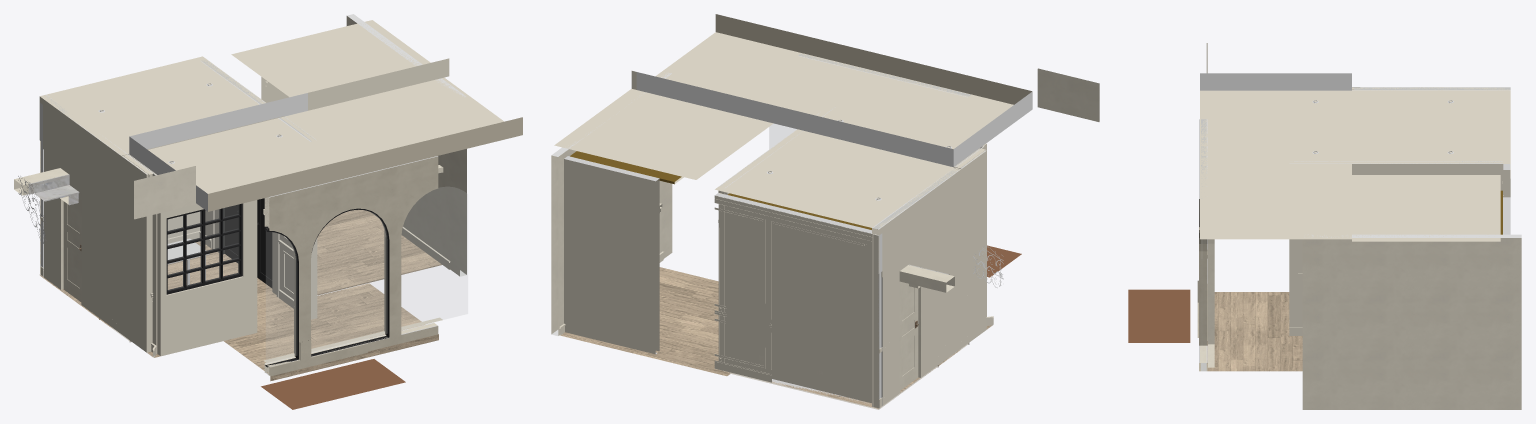
The model's file is office-west-3f3d2f189603.glb.
3 renders of one model, left to right at view 1: azimuth 30°, elevation 25°; view 2: azimuth 150°, elevation 25°; view 3: azimuth 270°, elevation 25°, orthographic. The views are drawn at different scales.
Parts seen in each view (by area): view 1: office-west-look-dbd60ee5c3733ed6, office-west-6a051330000fbca1, office-west-look-c9e78b9ec1bb39cd, office-west-look-2575515a05775d9e, office-west-2575515a05775d9e, office-west-look-c02a36d0521470a9, office-west-a822d30aa9e2c55a, office-west-look-5cbcc744e6f960f3, office-west-look-c374268555806af8, office-west-look-3b0077416469e01b, office-west-look-6a1144f4e43410bb, office-west-dbd60ee5c3733ed6 (+20 smaller); view 2: office-west-look-dbd60ee5c3733ed6, office-west-19647d6da46c2b80, office-west-6a051330000fbca1, office-west-look-19647d6da46c2b80, office-west-2575515a05775d9e, office-west-look-2575515a05775d9e, office-west-look-3b0077416469e01b, office-west-look-6a1144f4e43410bb, office-west-look-34525a54e63b733b, office-west-dbd60ee5c3733ed6, office-west-80d276f58a4dc5cb, office-west-7b51444cc162b982 (+11 smaller); view 3: office-west-look-6a1144f4e43410bb, office-west-look-dbd60ee5c3733ed6, office-west-2575515a05775d9e, office-west-look-2575515a05775d9e, office-west-look-c374268555806af8, office-west-dbd60ee5c3733ed6, office-west-look-aee2d046b0172b1e, office-west-72f8f5982ac3dc36, office-west-look-c9e78b9ec1bb39cd, office-west-0811b6b476584948, office-west-look-e54cb06e326b7f4f, office-west-6a051330000fbca1 (+4 smaller).
Part boxes in pixels (x1,y1,x2,y2): office-west-look-dbd60ee5c3733ed6: (129, 77, 522, 211); office-west-6a051330000fbca1: (39, 94, 157, 353); office-west-look-c9e78b9ec1bb39cd: (264, 156, 438, 375); office-west-look-2575515a05775d9e: (231, 20, 449, 110); office-west-2575515a05775d9e: (40, 56, 284, 155); office-west-look-c02a36d0521470a9: (311, 210, 387, 351); office-west-a822d30aa9e2c55a: (157, 139, 309, 356); office-west-look-5cbcc744e6f960f3: (401, 187, 467, 329); office-west-look-c374268555806af8: (224, 283, 438, 381); office-west-look-3b0077416469e01b: (317, 209, 441, 295); office-west-look-6a1144f4e43410bb: (346, 14, 466, 276); office-west-dbd60ee5c3733ed6: (129, 117, 316, 174); office-west-look-dbd60ee5c3733ed6: (636, 14, 1032, 166); office-west-19647d6da46c2b80: (715, 193, 872, 406); office-west-6a051330000fbca1: (872, 146, 986, 407); office-west-look-19647d6da46c2b80: (564, 156, 659, 354); office-west-2575515a05775d9e: (715, 129, 960, 227); office-west-look-2575515a05775d9e: (554, 71, 773, 179); office-west-look-3b0077416469e01b: (561, 267, 730, 376); office-west-look-6a1144f4e43410bb: (551, 72, 672, 335); office-west-look-34525a54e63b733b: (1037, 68, 1099, 121); office-west-dbd60ee5c3733ed6: (797, 105, 985, 167); office-west-80d276f58a4dc5cb: (900, 281, 918, 390); office-west-7b51444cc162b982: (714, 195, 872, 241); office-west-look-6a1144f4e43410bb: (1302, 234, 1521, 409); office-west-look-dbd60ee5c3733ed6: (1200, 73, 1351, 239); office-west-2575515a05775d9e: (1352, 87, 1510, 163); office-west-look-2575515a05775d9e: (1352, 175, 1500, 241); office-west-look-c374268555806af8: (1207, 292, 1302, 371); office-west-dbd60ee5c3733ed6: (1289, 90, 1351, 161); office-west-look-aee2d046b0172b1e: (1128, 289, 1190, 342); office-west-72f8f5982ac3dc36: (1289, 161, 1503, 327); office-west-look-c9e78b9ec1bb39cd: (1199, 119, 1207, 371); office-west-0811b6b476584948: (1352, 164, 1503, 171); office-west-look-e54cb06e326b7f4f: (1208, 239, 1214, 367); office-west-6a051330000fbca1: (1352, 87, 1510, 196).
Bounding box in the file's own units: 6.87 × 3.86 × 6.21.
Materials: 30 (7 with a texture image).
